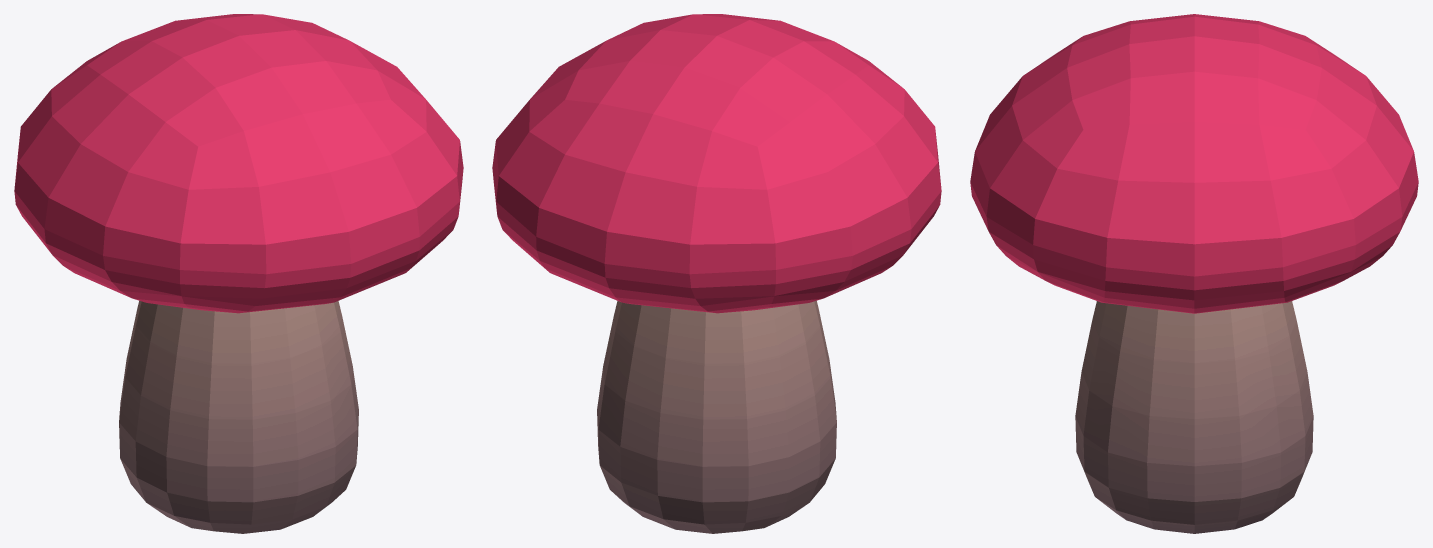
File: sieni.fbx
The picture shows the model from 3 angles, left to right: view 1: azimuth 30°, elevation 25°; view 2: azimuth 150°, elevation 25°; view 3: azimuth 270°, elevation 25°; orthographic projection.
Visible parts, largest first — view 1: Cube.009; view 2: Cube.009; view 3: Cube.009.
Part boxes in pixels (x1,y1,x2,y2): Cube.009: [14, 14, 463, 533]; Cube.009: [492, 14, 941, 533]; Cube.009: [970, 14, 1418, 533].
Bounding box in the file's own units: 0.4635 × 0.5451 × 0.4635.
